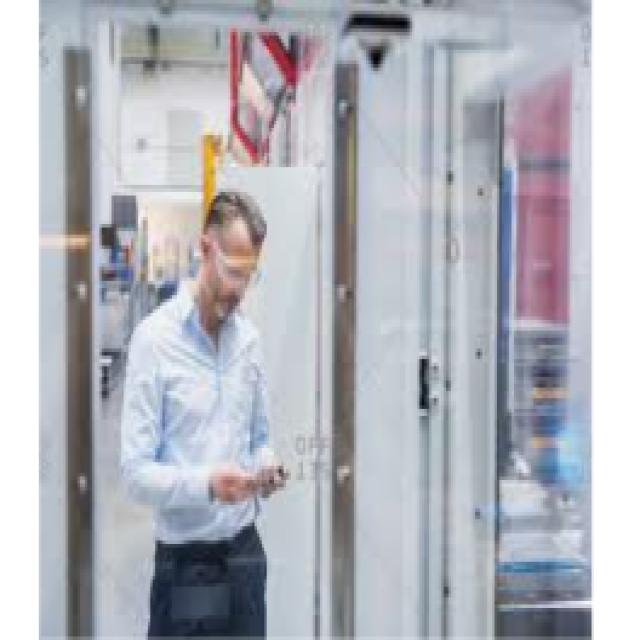glasses: (202, 253, 268, 289)
